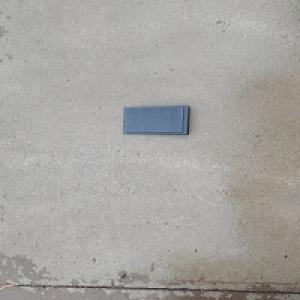PlasticPart: (122, 104, 191, 136)
